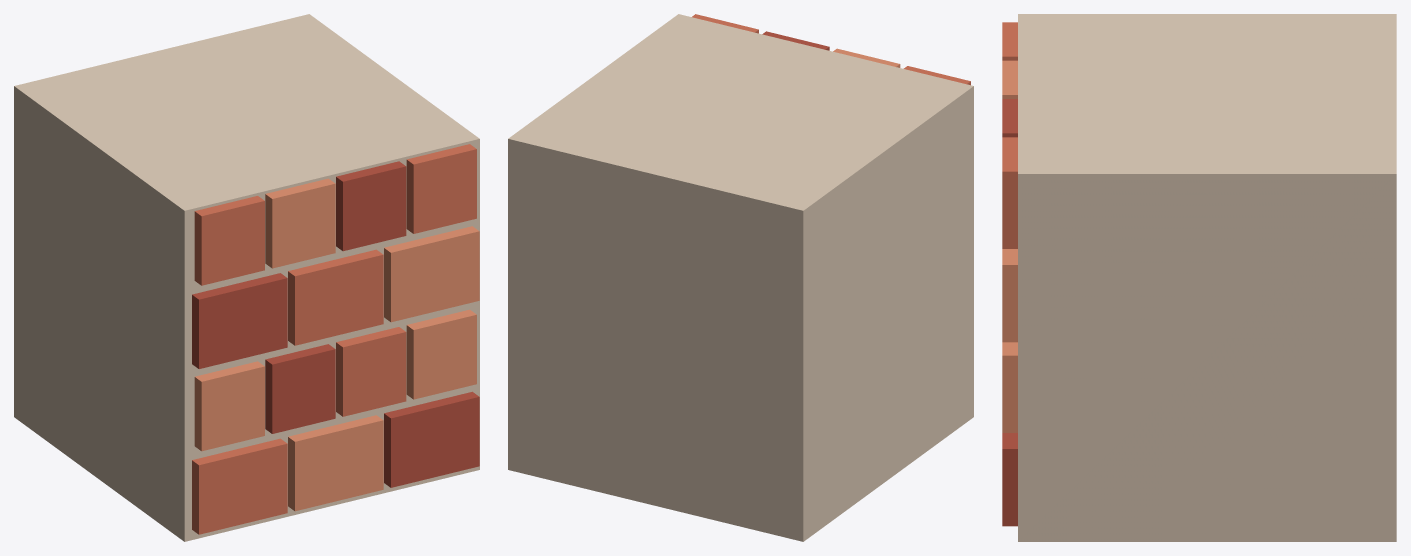
Rendered from bp_brickblock.glb.
The picture shows the model from 3 angles, left to right: view 1: azimuth 30°, elevation 25°; view 2: azimuth 150°, elevation 25°; view 3: azimuth 270°, elevation 25°; orthographic projection. The views are drawn at different scales.
Parts seen in each view (by area): view 1: brick_mortar, brick_face, brick_face.002, brick_face.008, brick_face.009, brick_face.007, brick_face.001, brick_face.006, brick_face.003, brick_face.004, brick_face.013, brick_face.010 (+3 smaller); view 2: brick_mortar; view 3: brick_mortar, brick_face.013, brick_face.002, brick_face.009, brick_face.006, brick_face.010, brick_face.011, brick_face.012.
Boxes of the visible parts, left/top/right/bottom form: brick_mortar: left=14, top=14, right=479, bottom=541; brick_face: left=192, top=438, right=287, bottom=534; brick_face.002: left=384, top=391, right=479, bottom=487; brick_face.008: left=288, top=249, right=383, bottom=345; brick_face.009: left=384, top=226, right=479, bottom=322; brick_face.007: left=192, top=273, right=287, bottom=368; brick_face.001: left=288, top=415, right=383, bottom=511; brick_face.006: left=406, top=309, right=476, bottom=399; brick_face.003: left=194, top=361, right=264, bottom=451; brick_face.004: left=265, top=344, right=335, bottom=433; brick_face.013: left=406, top=144, right=476, bottom=233; brick_face.010: left=194, top=196, right=264, bottom=285; brick_mortar: left=508, top=14, right=973, bottom=541; brick_mortar: left=1018, top=14, right=1396, bottom=541; brick_face.013: left=1002, top=137, right=1017, bottom=248; brick_face.002: left=1002, top=433, right=1017, bottom=526; brick_face.009: left=1002, top=249, right=1017, bottom=342; brick_face.006: left=1002, top=342, right=1017, bottom=432; brick_face.010: left=1002, top=22, right=1017, bottom=60; brick_face.011: left=1002, top=60, right=1017, bottom=98; brick_face.012: left=1002, top=99, right=1017, bottom=137.
Bounding box in the file's own units: 1.4 × 1.5 × 1.46.
